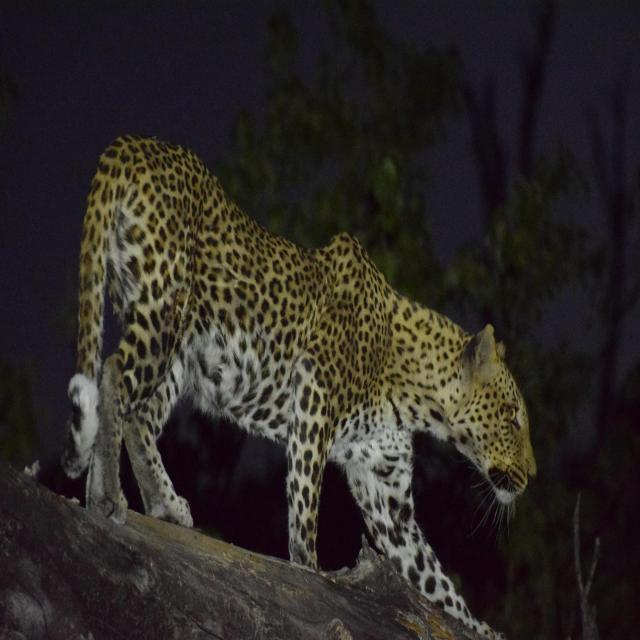Leopard: (47, 148, 533, 612)
